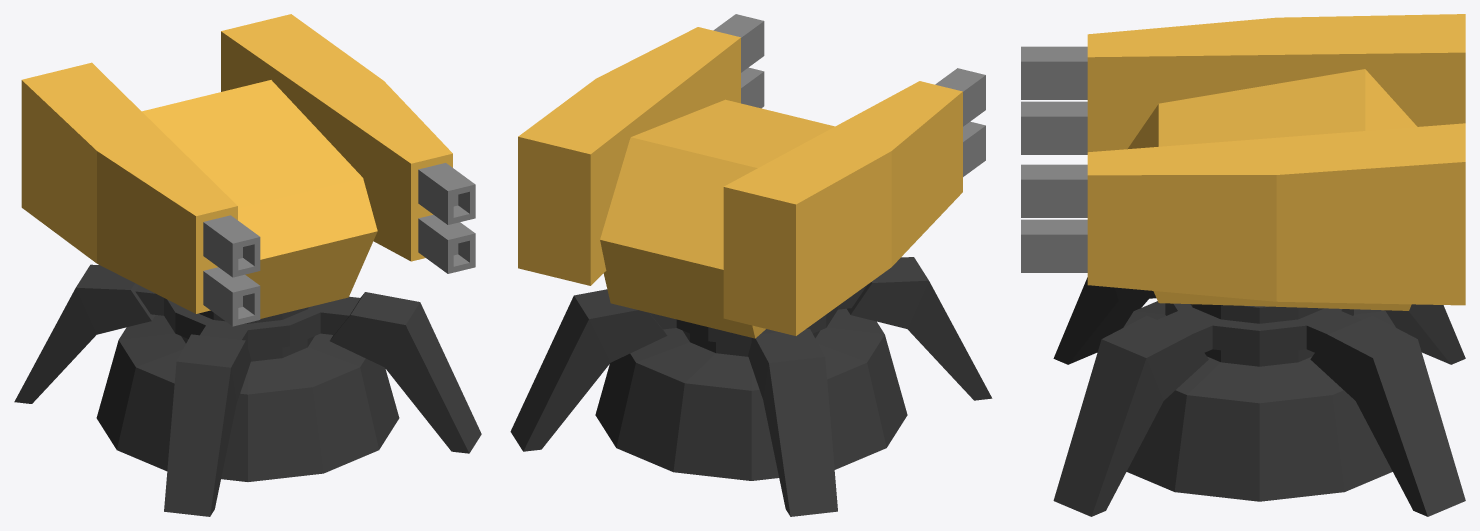
Rendered from Turrets_1.fbx.
3 renders of one model, left to right at view 1: azimuth 30°, elevation 25°; view 2: azimuth 150°, elevation 25°; view 3: azimuth 270°, elevation 25°, orthographic. The views are drawn at different scales.
Parts seen in each view (by area): view 1: Turret_6.003, Turret_6.002, Turret_6.001; view 2: Turret_6.003, Turret_6.002, Turret_6.001; view 3: Turret_6.003, Turret_6.002, Turret_6.001.
Part boxes in pixels (bbox=[...]): Turret_6.003: bbox=[21, 14, 475, 326]; Turret_6.002: bbox=[14, 264, 481, 516]; Turret_6.001: bbox=[142, 80, 377, 318]; Turret_6.003: bbox=[518, 14, 985, 335]; Turret_6.002: bbox=[510, 257, 992, 516]; Turret_6.001: bbox=[600, 99, 834, 338]; Turret_6.003: bbox=[1021, 14, 1465, 305]; Turret_6.002: bbox=[1053, 277, 1465, 516]; Turret_6.001: bbox=[1127, 69, 1417, 310].
Size of the model in its own units: 2.42 by 2.22 by 2.61.
